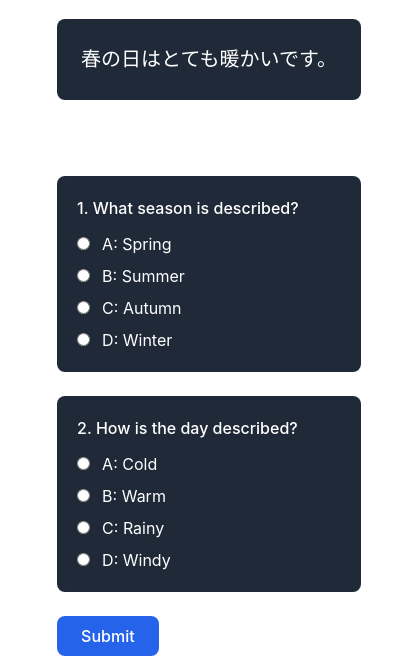
Test: ReadingDetailPage › shows failed badge when not passed
(page scrolled)
Step 1. Click the button "Submit" → {"x": 108, "y": 636}, box x1=57 y1=616 x2=159 y2=656
(page scrolled)
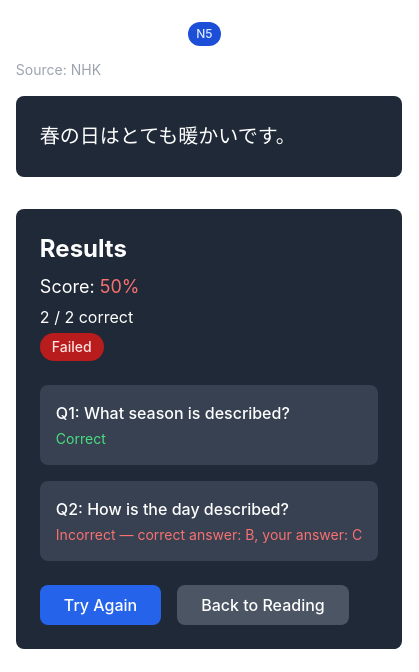
Expected: the text "Failed" is shown, x1=40 y1=332 x2=104 y2=360
